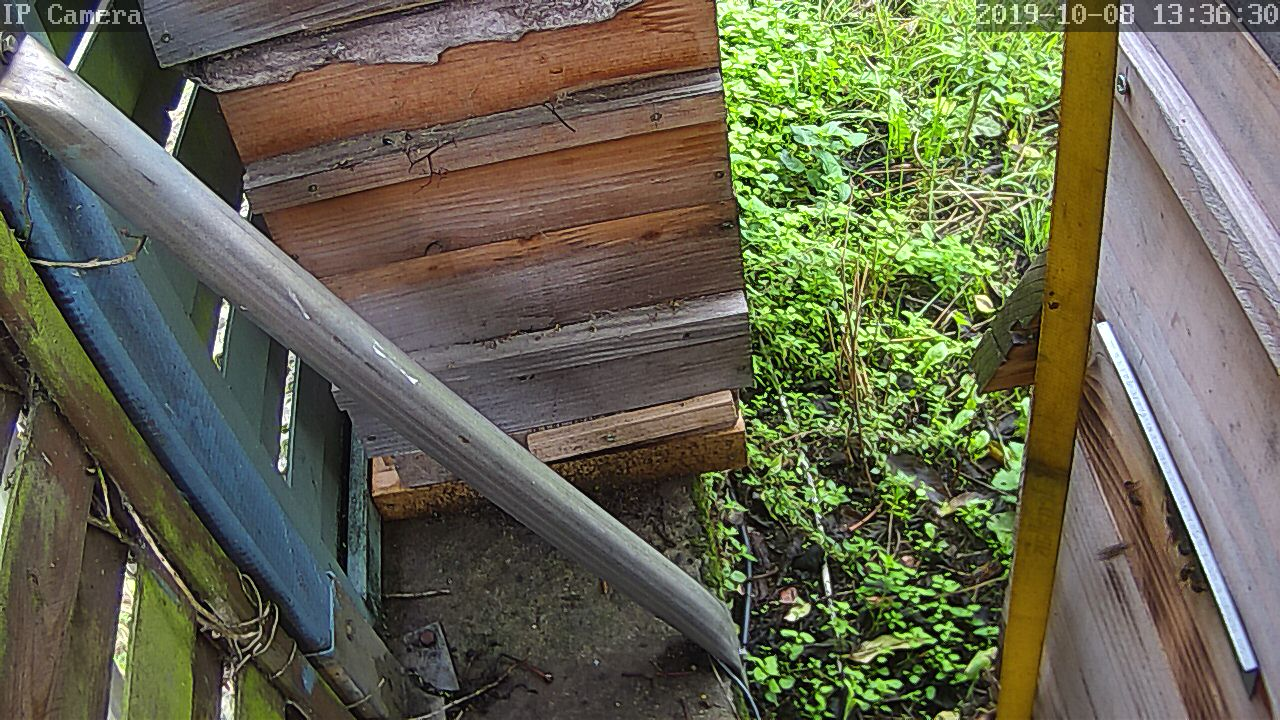bee: (1174, 564, 1211, 598), (1095, 538, 1139, 565), (1160, 533, 1196, 565), (1152, 512, 1183, 549)
